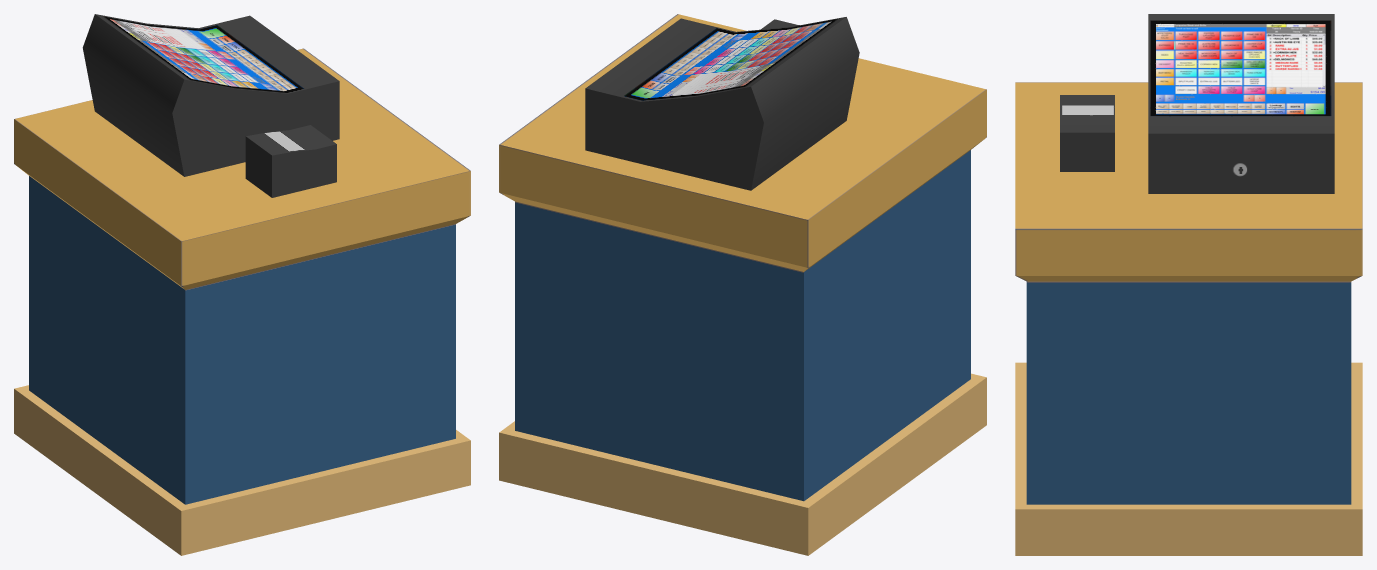
Rendered from POS_station.fbx.
The picture shows the model from 3 angles, left to right: view 1: azimuth 30°, elevation 25°; view 2: azimuth 150°, elevation 25°; view 3: azimuth 270°, elevation 25°; orthographic projection. The views are drawn at different scales.
Visible parts, largest first — view 1: counter, POS; view 2: counter, POS; view 3: counter, POS.
Boxes of the visible parts, box(x1,y1,x2,y2) form: counter: box(14, 48, 470, 555); POS: box(82, 14, 339, 197); counter: box(499, 14, 986, 555); POS: box(585, 17, 859, 190); counter: box(1015, 82, 1362, 555); POS: box(1060, 14, 1334, 193).
Bounding box in the file's own units: 1.98 × 2.7 × 1.98.
